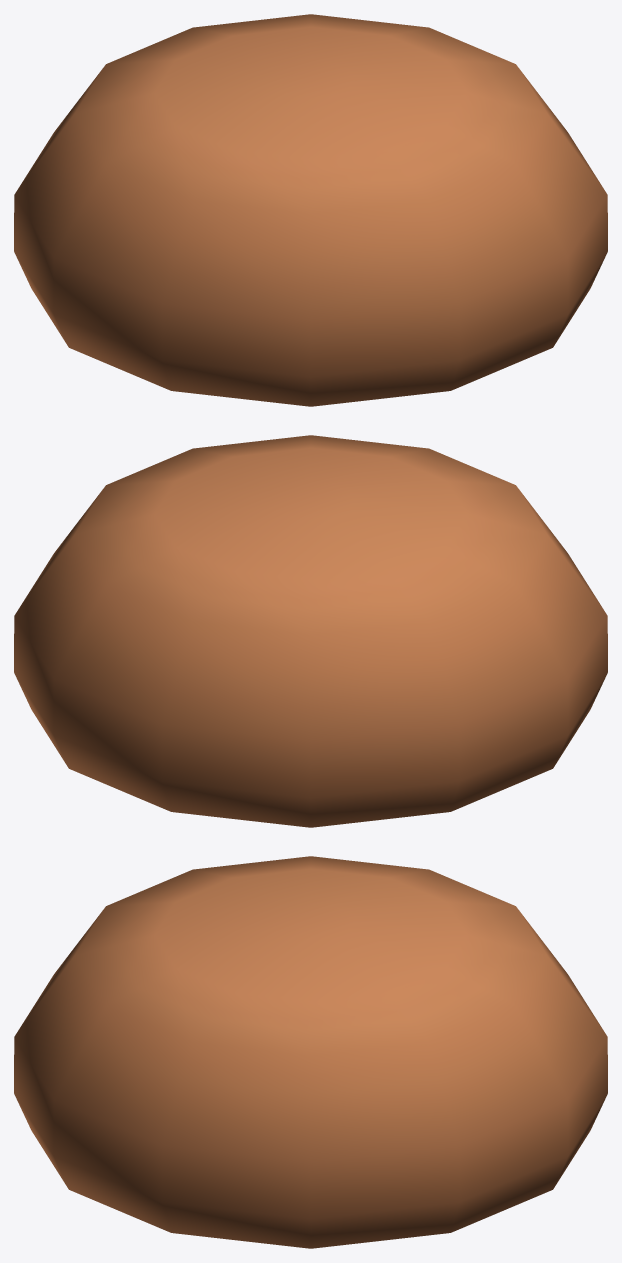
The model's file is candy_choco_5.fbx.
3 renders of one model, top to bottom at view 1: azimuth 30°, elevation 25°; view 2: azimuth 150°, elevation 25°; view 3: azimuth 270°, elevation 25°, orthographic.
Parts seen in each view (by area): view 1: c_c_5; view 2: c_c_5; view 3: c_c_5.
Part boxes in pixels (box(x1,y1,x2,y2)): c_c_5: box(14, 14, 607, 406); c_c_5: box(14, 435, 607, 827); c_c_5: box(14, 856, 607, 1248).
Bounding box in the file's own units: 117 × 48.87 × 117.
